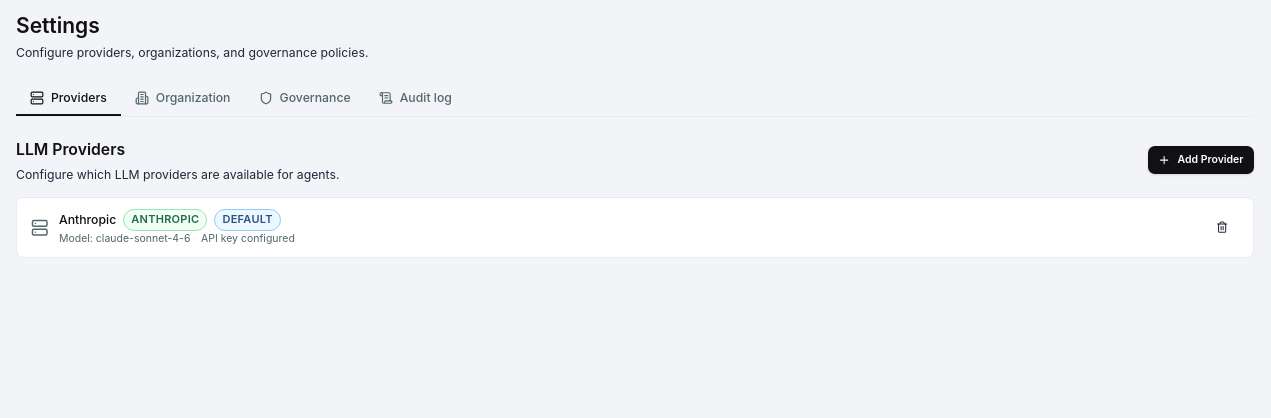
Test case: SettingsPage › switches to Organization tab
The image size is (1271, 418).
Click the button "Organization".
click(183, 99)  # box top-left (121, 82), bottom-right (244, 116)
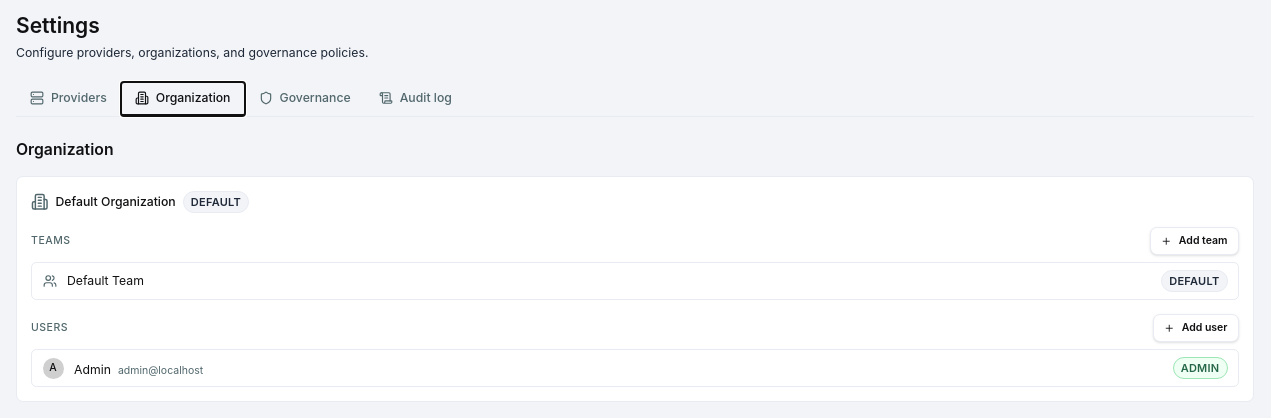
Result: the heading "Organization" is shown at top-left (16, 140), bottom-right (114, 158)
